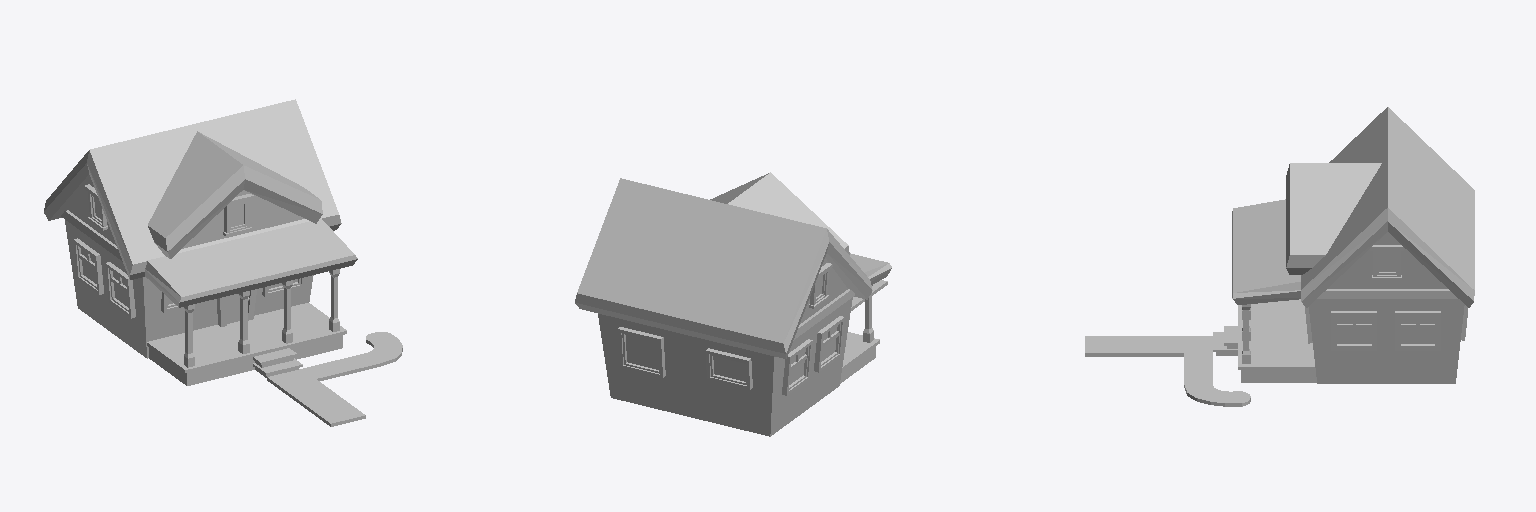
The model's file is House_09.obj.
3 renders of one model, left to right at view 1: azimuth 30°, elevation 25°; view 2: azimuth 150°, elevation 25°; view 3: azimuth 270°, elevation 25°, orthographic.
Visible parts, largest first — view 1: House_09; view 2: House_09; view 3: House_09.
Boxes of the visible parts, x1=… form: House_09: x1=44, y1=99, x2=402, y2=426; House_09: x1=575, y1=172, x2=891, y2=436; House_09: x1=1085, y1=107, x2=1474, y2=406.
Size of the model in its own units: 432 by 338 by 632.